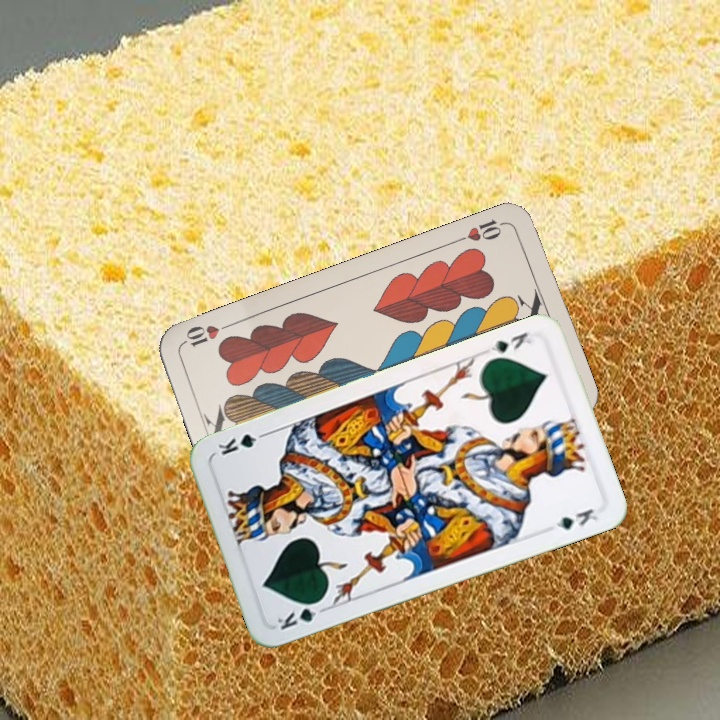GK: (273, 596, 327, 633), (487, 328, 534, 355)
H10: (452, 214, 509, 245)
